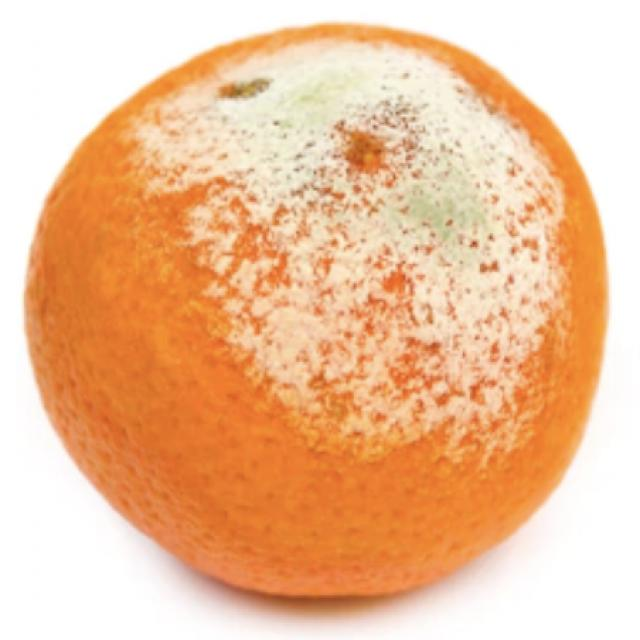rotten-orange: (21, 18, 606, 598)
